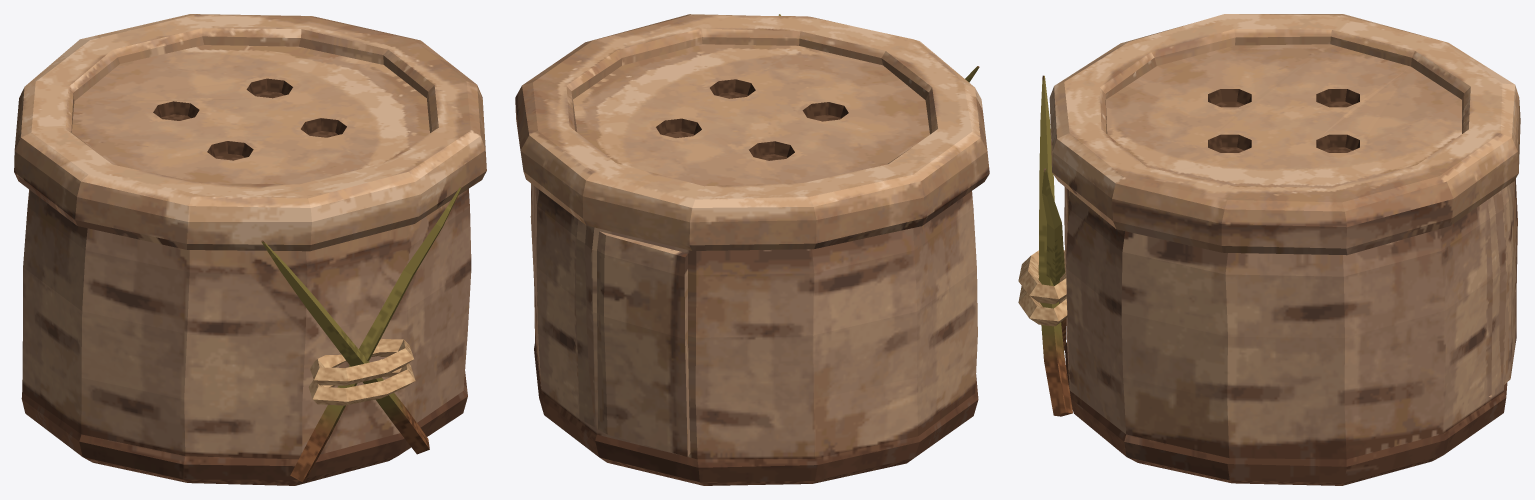
Rendered from CI20_ButtonDrum.fbx.
The picture shows the model from 3 angles, left to right: view 1: azimuth 30°, elevation 25°; view 2: azimuth 150°, elevation 25°; view 3: azimuth 270°, elevation 25°; orthographic projection.
Parts seen in each view (by area): view 1: CI20_ButtonDrum; view 2: CI20_ButtonDrum; view 3: CI20_ButtonDrum.
Part boxes in pixels (x1,y1,x2,y2): CI20_ButtonDrum: (14,14,486,485); CI20_ButtonDrum: (515,14,989,485); CI20_ButtonDrum: (1018,14,1520,485).
Bounding box in the file's own units: 0.199 × 0.1352 × 0.2086.
1 material, 1 textured.
